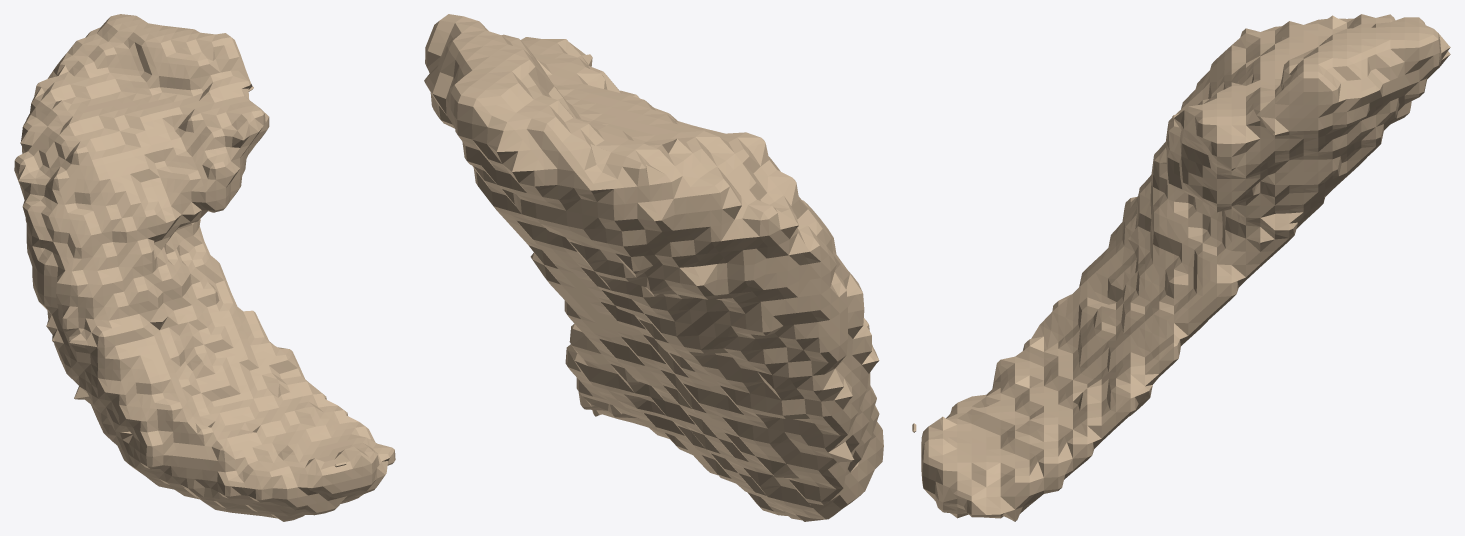
The model's file is l_hippocampus.glb.
The picture shows the model from 3 angles, left to right: view 1: azimuth 30°, elevation 25°; view 2: azimuth 150°, elevation 25°; view 3: azimuth 270°, elevation 25°; orthographic projection. The views are drawn at different scales.
Visible parts, largest first — view 1: world; view 2: world; view 3: world.
Part boxes in pixels (x1,y1,x2,y2): world: (14,14,395,521); world: (424,14,883,521); world: (912,14,1450,521).
Size of the model in its own units: 25.85 by 35.99 by 37.32.
